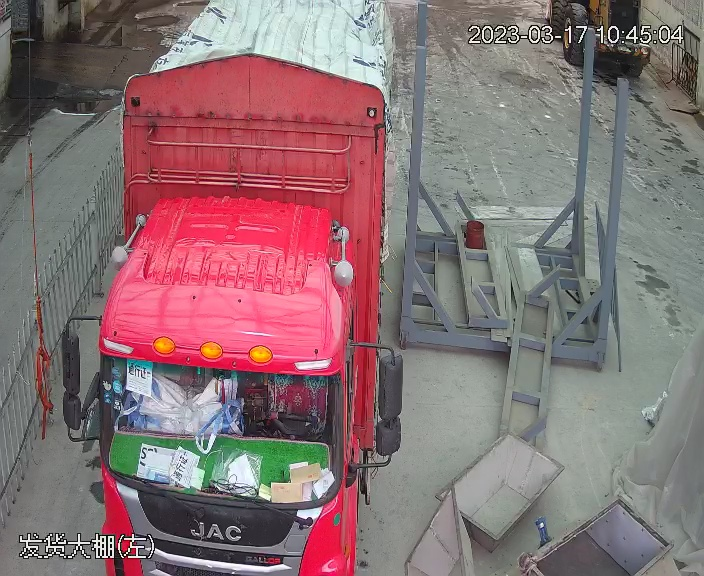truck: (29, 12, 440, 566)
